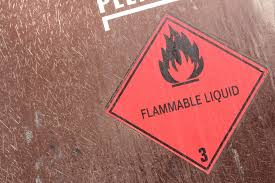FlammableLiquid: (120, 18, 262, 168)
